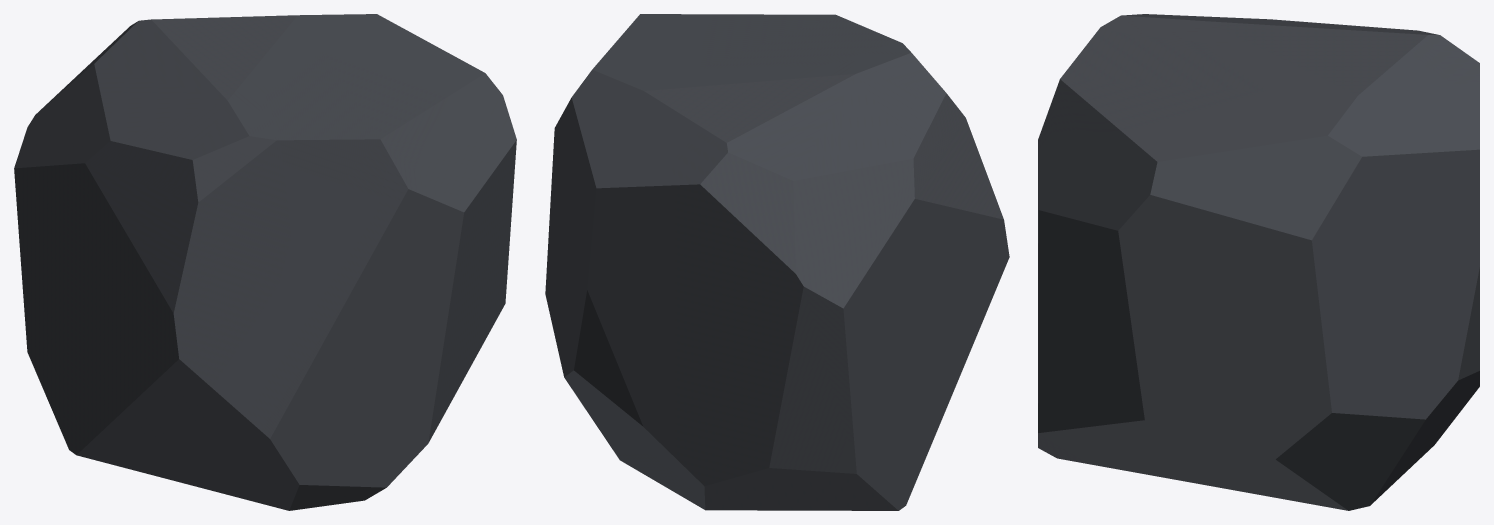
The model's file is rock4.obj.
3 renders of one model, left to right at view 1: azimuth 30°, elevation 25°; view 2: azimuth 150°, elevation 25°; view 3: azimuth 270°, elevation 25°, orthographic. The views are drawn at different scales.
Bounding box in the file's own units: 2 × 2 × 2.
Materials: 1 (1 with a texture image).
